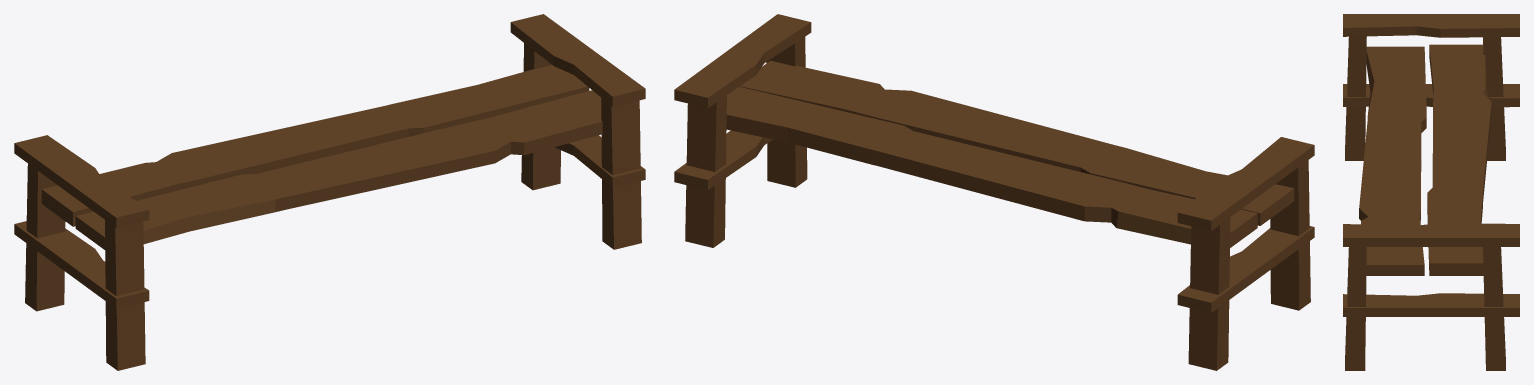
File: Bench-2.glb
3 views of the same model, side by side, from view 1: azimuth 30°, elevation 25°; view 2: azimuth 150°, elevation 25°; view 3: azimuth 270°, elevation 25° (orthographic). The views are drawn at different scales.
Visible parts, largest first — view 1: Bench-2; view 2: Bench-2; view 3: Bench-2.
Part boxes in pixels (box(x1,y1,x2,y2)): Bench-2: box(14, 14, 645, 370); Bench-2: box(674, 14, 1314, 370); Bench-2: box(1343, 14, 1519, 370).
Size of the model in its own units: 0.665 by 0.1856 by 0.2219.
